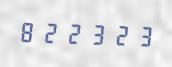eight: (17, 17, 38, 45)
three: (84, 19, 105, 47), (128, 21, 149, 49)
two: (39, 18, 60, 46), (106, 20, 127, 48), (62, 19, 83, 46)
